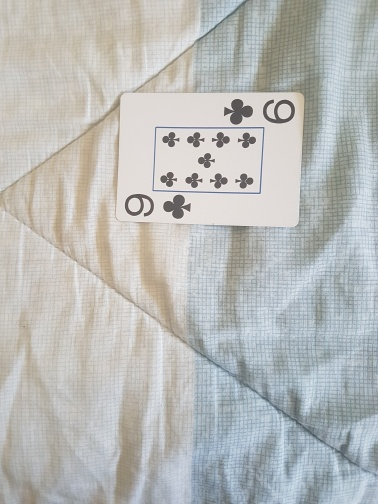nine: (115, 87, 306, 226)
